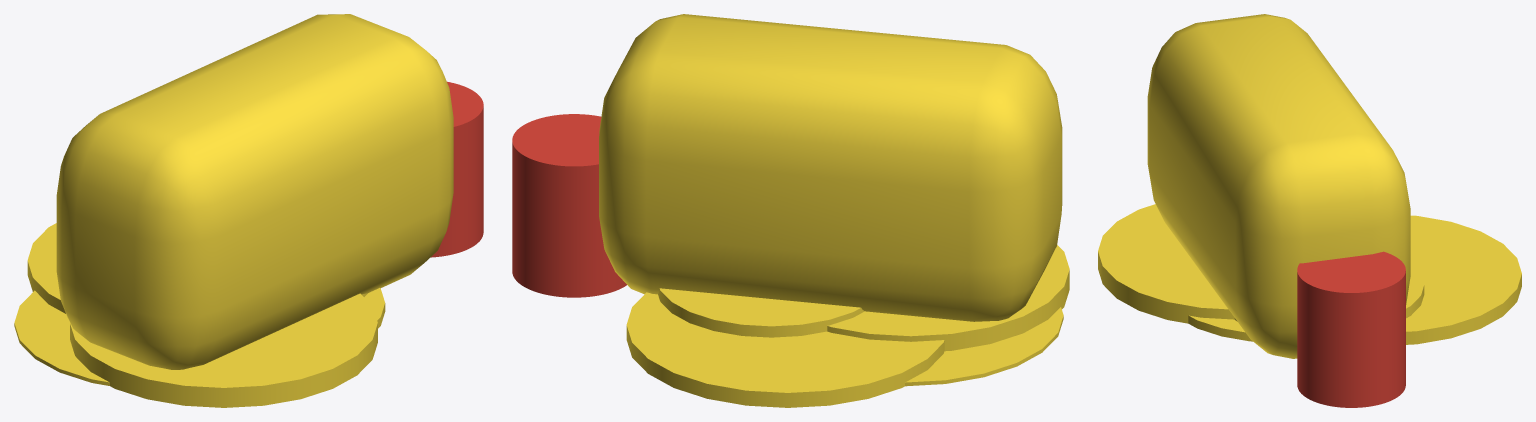
File: mustard_dead.glb
3 views of the same model, side by side, from view 1: azimuth 30°, elevation 25°; view 2: azimuth 150°, elevation 25°; view 3: azimuth 270°, elevation 25° (orthographic). The views are drawn at different scales.
Parts seen in each view (by area): view 1: Cube.001, Cylinder.010, Cylinder.006, Cylinder.007, Cylinder.009, Cylinder.008; view 2: Cube.001, Cylinder.009, Cylinder.006, Cylinder.010, Cylinder.011, Cylinder.007; view 3: Cube.001, Cylinder.006, Cylinder.009, Cylinder.010, Cylinder.008, Cylinder.011.
Boxes of the visible parts, bbox=[...] form: Cube.001: bbox=[56, 14, 453, 369]; Cylinder.010: bbox=[70, 293, 377, 407]; Cylinder.006: bbox=[431, 81, 483, 257]; Cylinder.007: bbox=[14, 290, 109, 385]; Cylinder.009: bbox=[27, 223, 65, 313]; Cylinder.008: bbox=[364, 288, 385, 328]; Cube.001: bbox=[599, 14, 1062, 321]; Cylinder.009: bbox=[626, 292, 944, 407]; Cylinder.006: bbox=[512, 114, 626, 297]; Cylinder.010: bbox=[827, 245, 1069, 351]; Cylinder.011: bbox=[658, 288, 864, 337]; Cylinder.007: bbox=[905, 307, 1063, 386]; Cube.001: bbox=[1147, 14, 1410, 358]; Cylinder.006: bbox=[1297, 251, 1405, 407]; Cylinder.009: bbox=[1406, 215, 1521, 344]; Cylinder.010: bbox=[1098, 204, 1234, 323]; Cylinder.008: bbox=[1188, 315, 1252, 341]; Cylinder.011: bbox=[1234, 263, 1424, 321].
Size of the model in its own units: 2.72 by 1.3 by 2.34.
